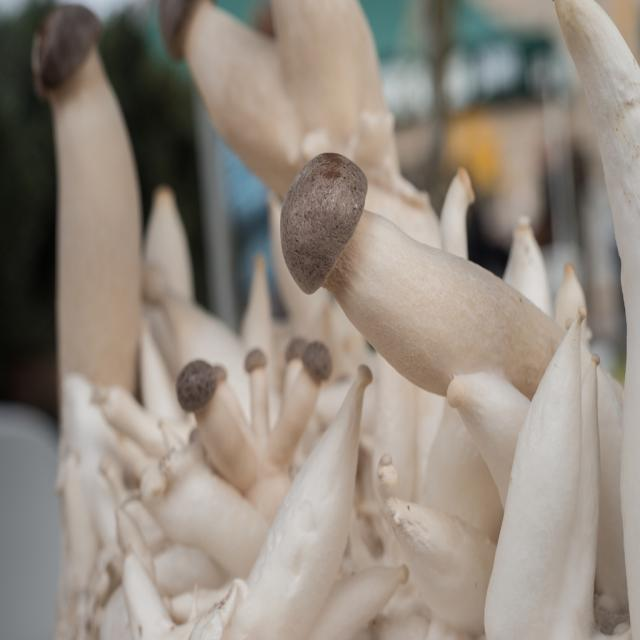Mushroom: (32, 0, 639, 639), (280, 152, 624, 603)
